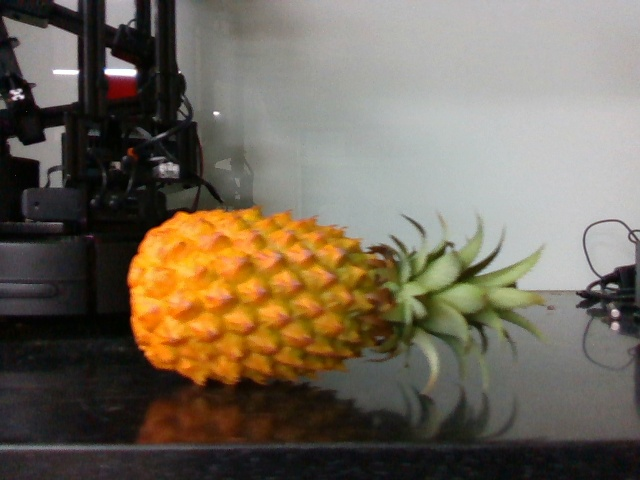pineapple: (124, 201, 554, 387)
